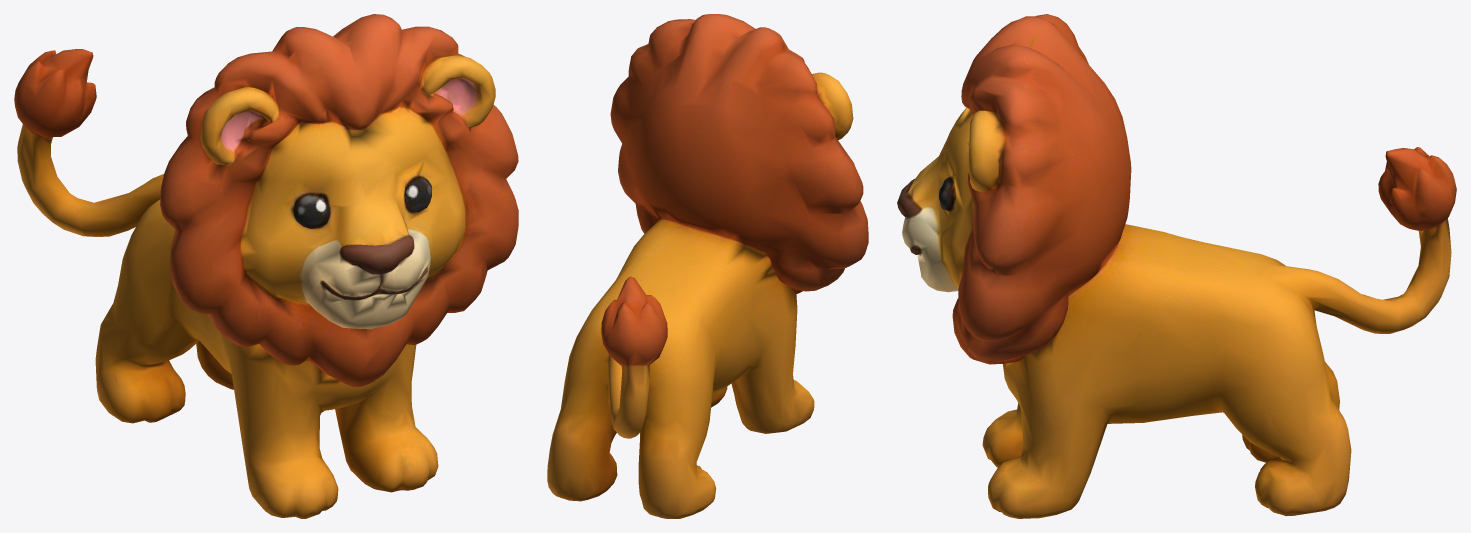
The model's file is leao.glb.
3 views of the same model, side by side, from view 1: azimuth 30°, elevation 25°; view 2: azimuth 150°, elevation 25°; view 3: azimuth 270°, elevation 25° (orthographic). The views are drawn at different scales.
Parts seen in each view (by area): view 1: personagem; view 2: personagem; view 3: personagem.
Boxes of the visible parts, <box> form: personagem: <box>14,14,518,518</box>; personagem: <box>547,14,868,518</box>; personagem: <box>897,14,1456,518</box>.
Size of the model in its own units: 0.625 by 0.8641 by 0.9797.
1 material, 1 textured.
